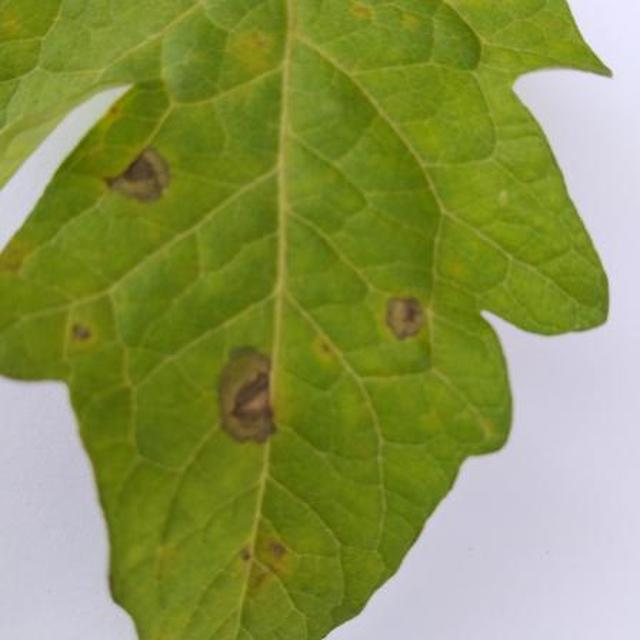Early Blight Leaf: (118, 137, 640, 640)
